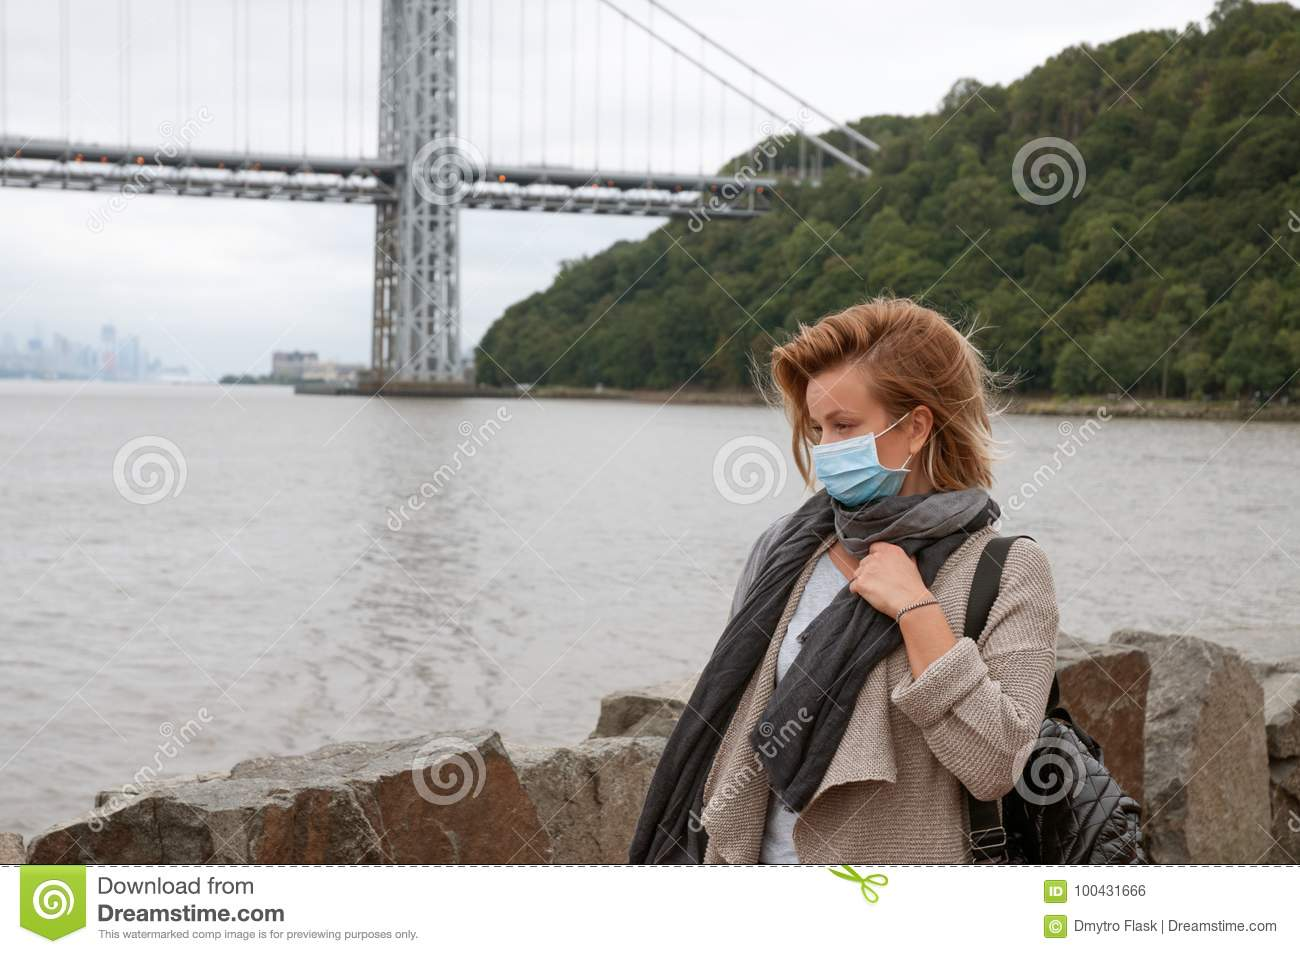mask: (811, 441, 909, 502)
